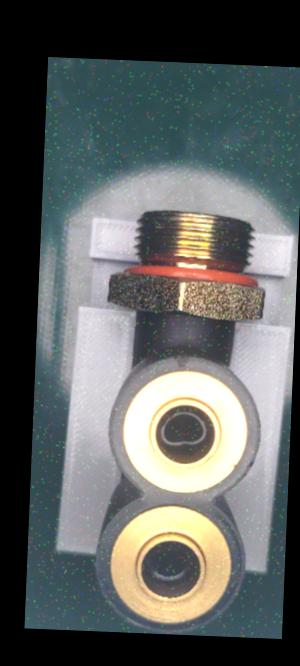bump: (170, 350, 192, 371)
joint line: (181, 322, 190, 348)
off-centered: (155, 406, 211, 449)
